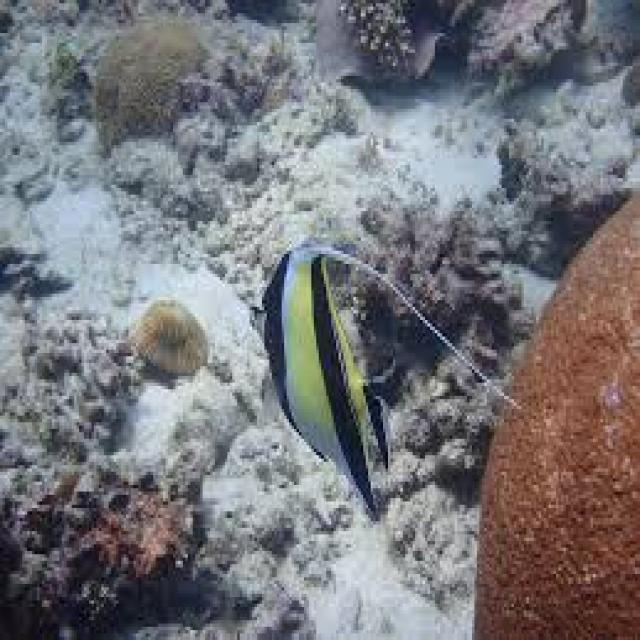MorishIdol: (252, 231, 401, 524)
